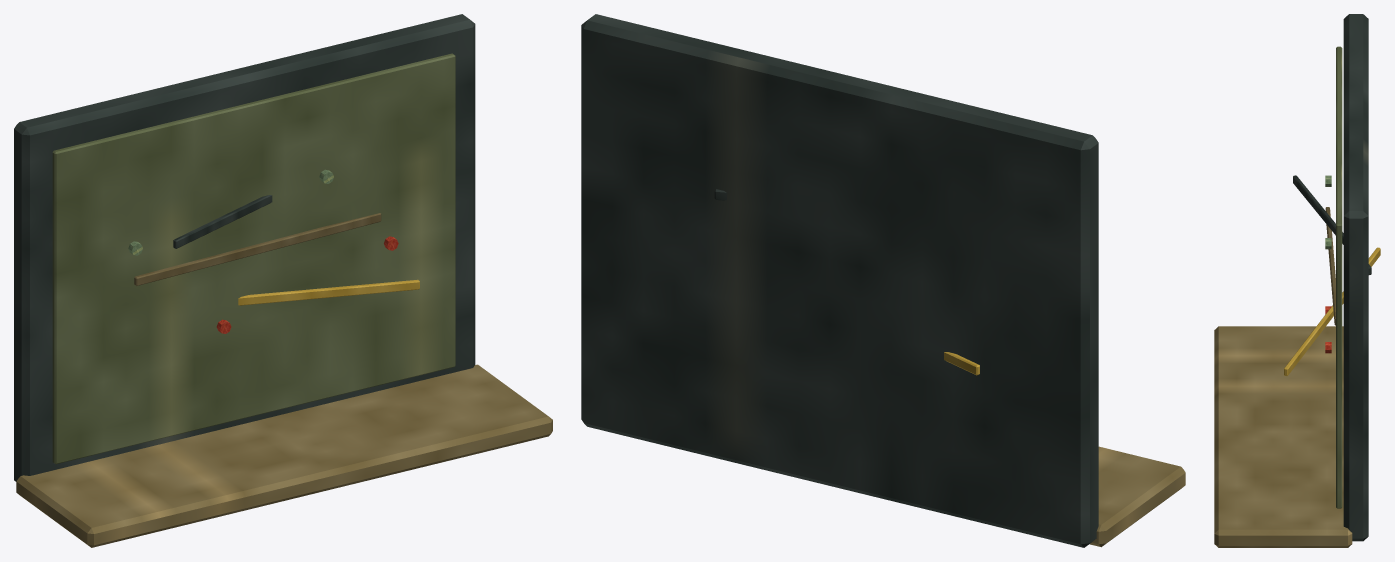
Rendered from SH_POC_TacticalMap.fbx.
3 renders of one model, left to right at view 1: azimuth 30°, elevation 25°; view 2: azimuth 150°, elevation 25°; view 3: azimuth 270°, elevation 25°, orthographic. The views are drawn at different scales.
Visible parts, largest first — view 1: SH_POC_TacticalMap; view 2: SH_POC_TacticalMap; view 3: SH_POC_TacticalMap.
Boxes of the visible parts, x1=… form: SH_POC_TacticalMap: x1=14, y1=14, x2=552, y2=547; SH_POC_TacticalMap: x1=581, y1=14, x2=1185, y2=547; SH_POC_TacticalMap: x1=1214, y1=14, x2=1380, y2=547.
Bounding box in the file's own units: 1.95 × 1.47 × 0.6627.
1 material, 1 textured.
